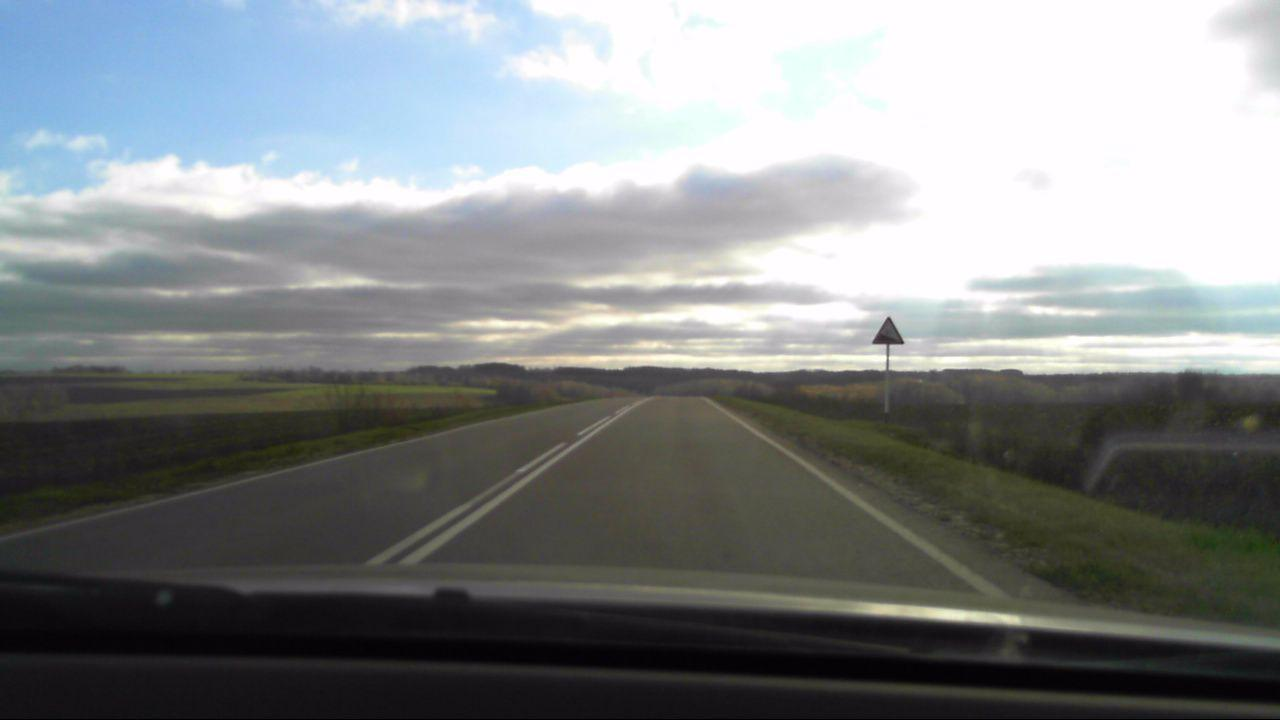1_13: (871, 313, 905, 347)
